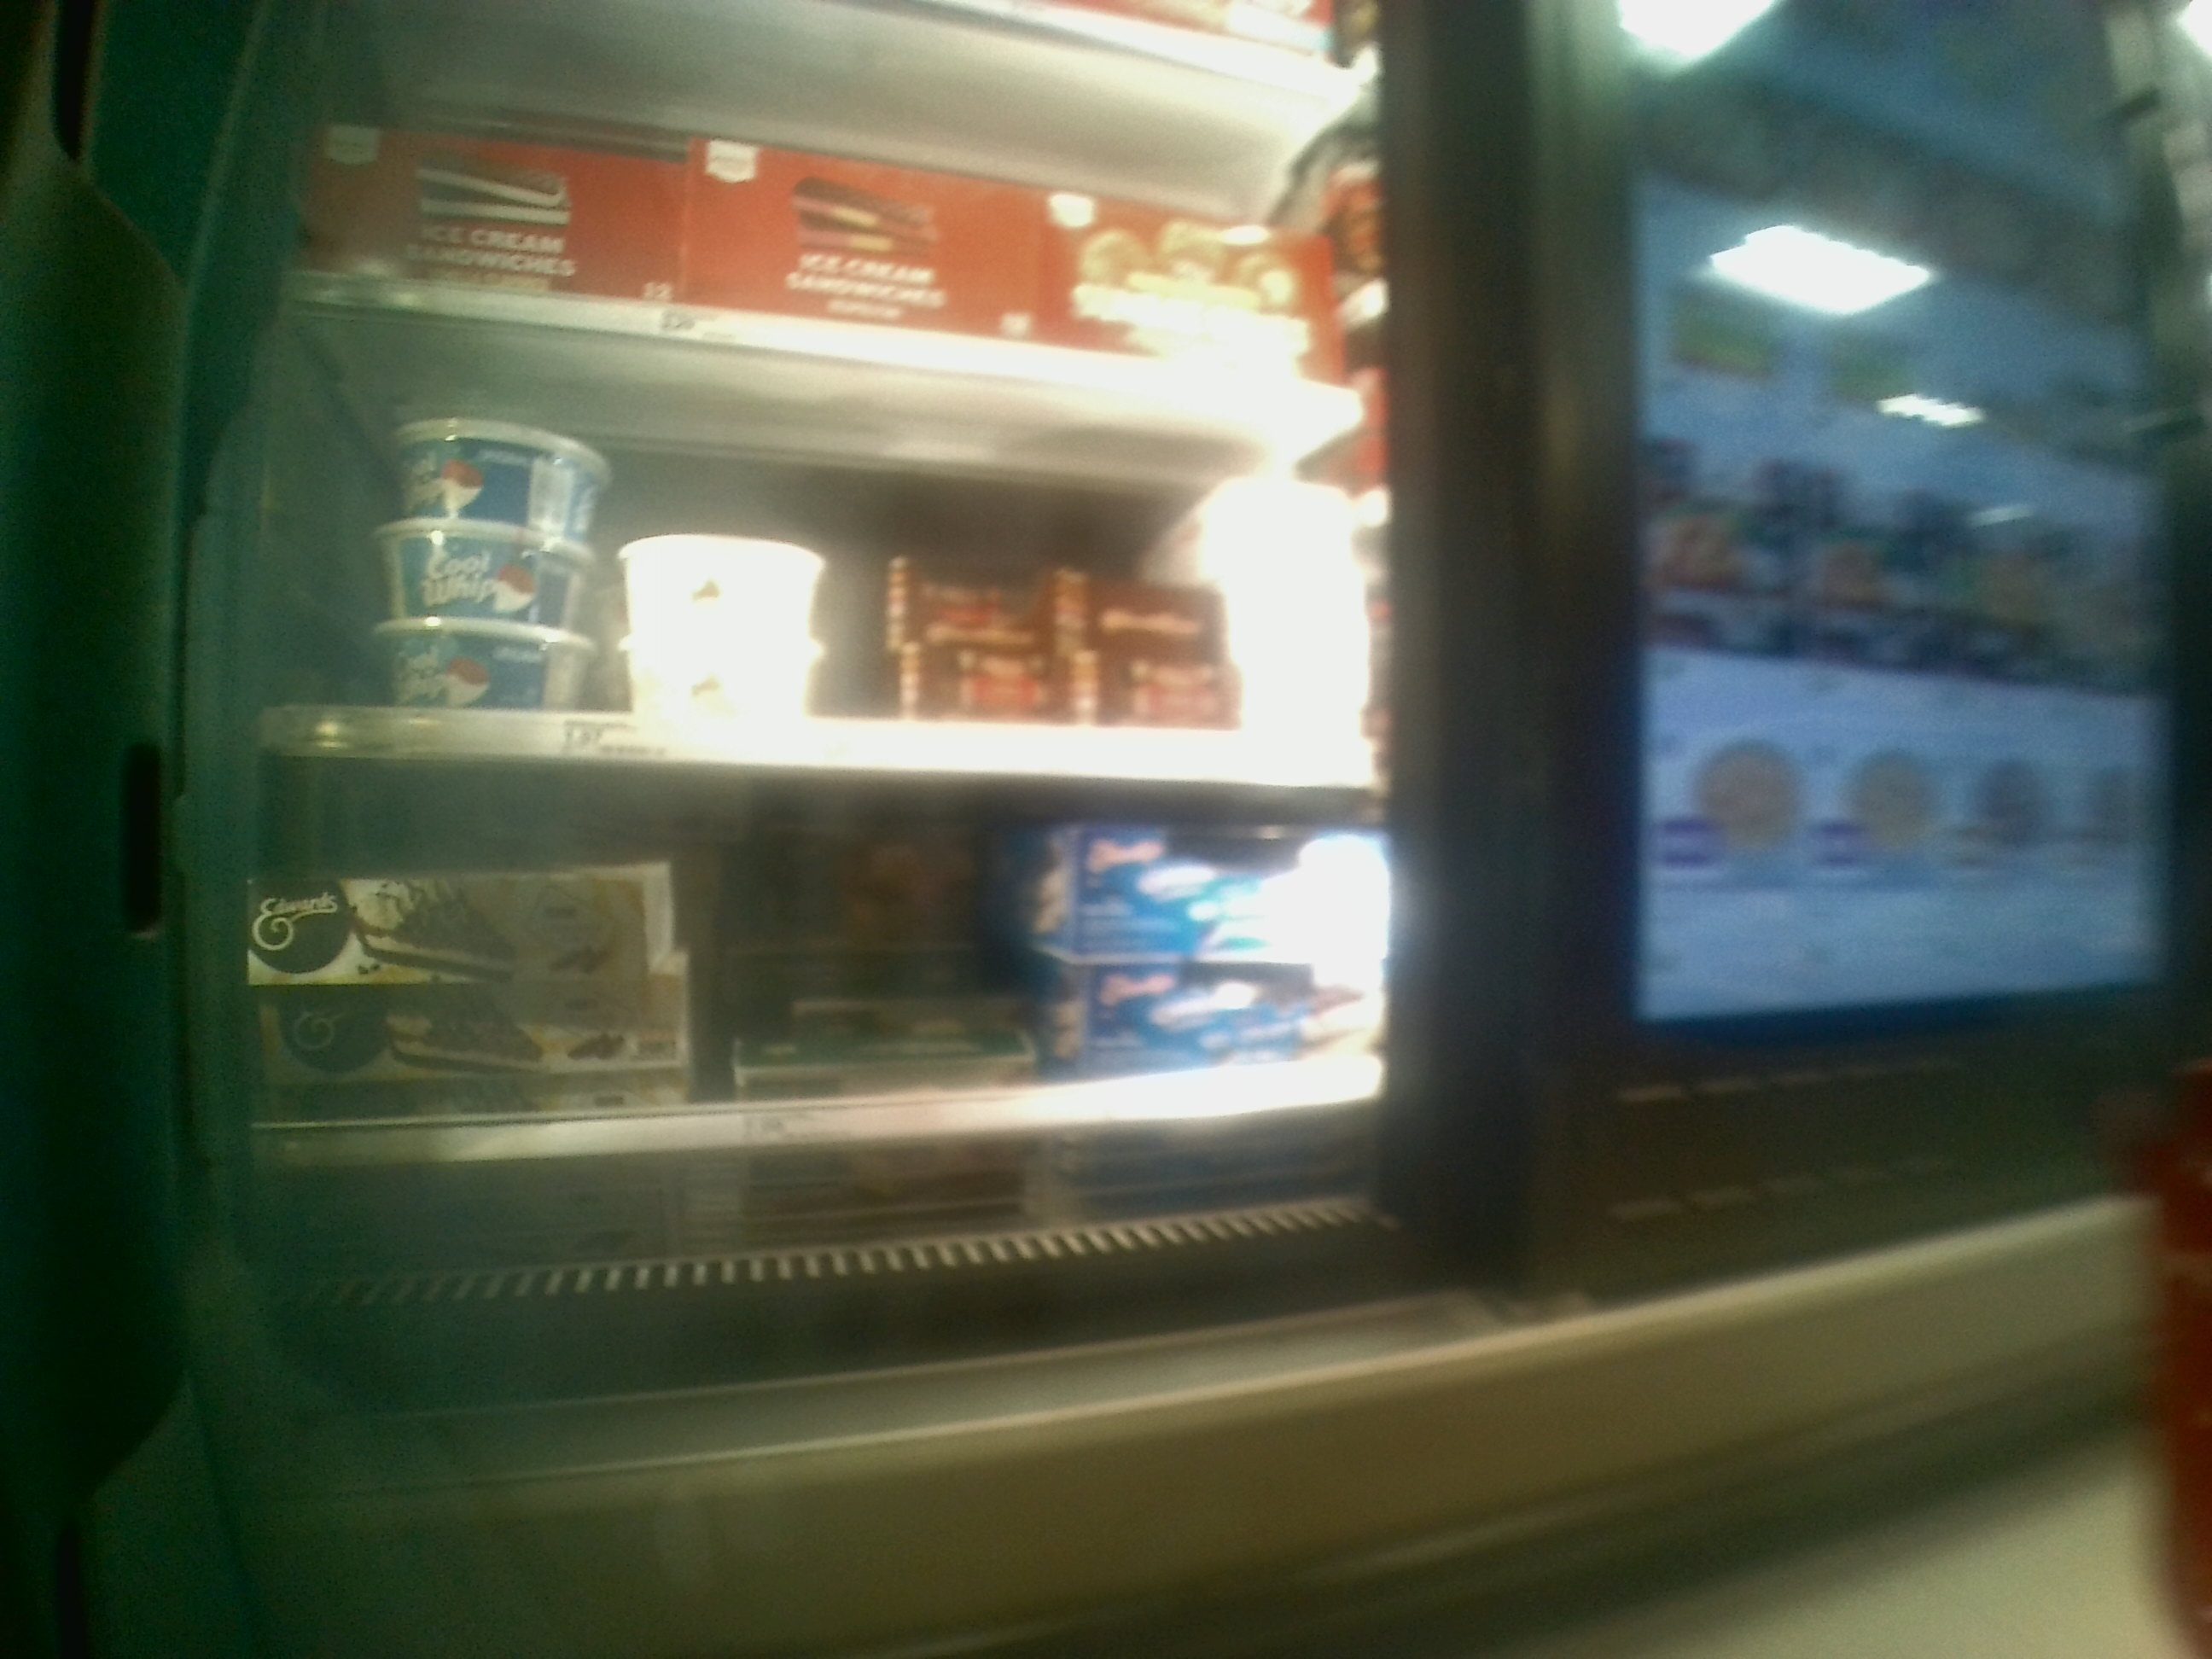shelf: (254, 769, 1390, 1265), (263, 295, 1400, 788)
